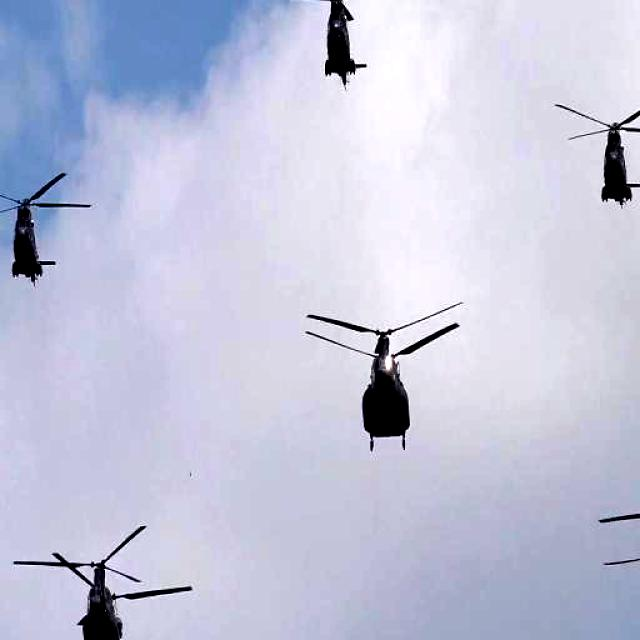drone: (298, 301, 469, 449), (32, 529, 181, 640), (271, 0, 411, 89), (0, 159, 86, 290), (542, 99, 640, 209), (590, 475, 640, 631)
